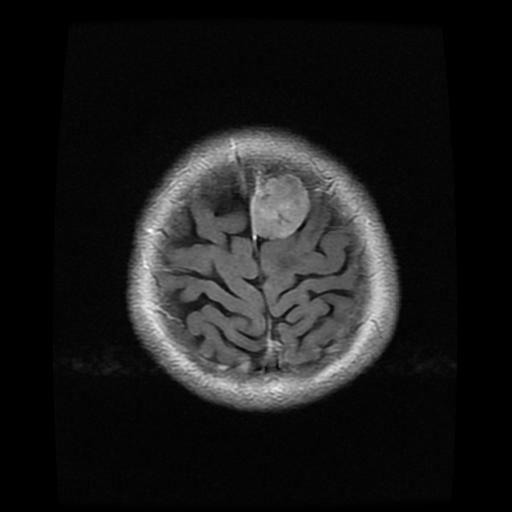Menigiomia_tumour: (251, 176, 307, 234)
